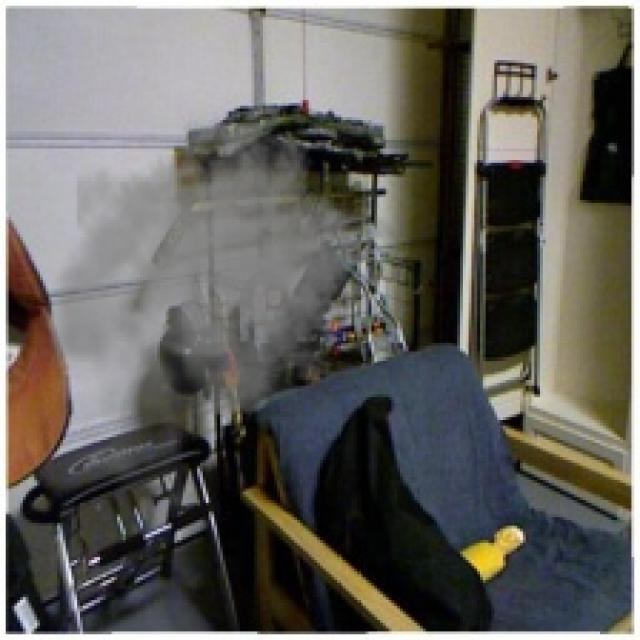smoke: (34, 108, 377, 526)
